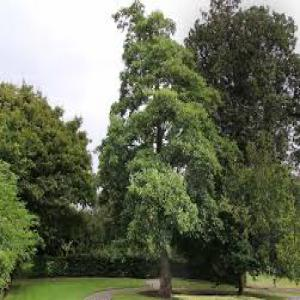Tree: (105, 0, 221, 297), (189, 5, 299, 292)
